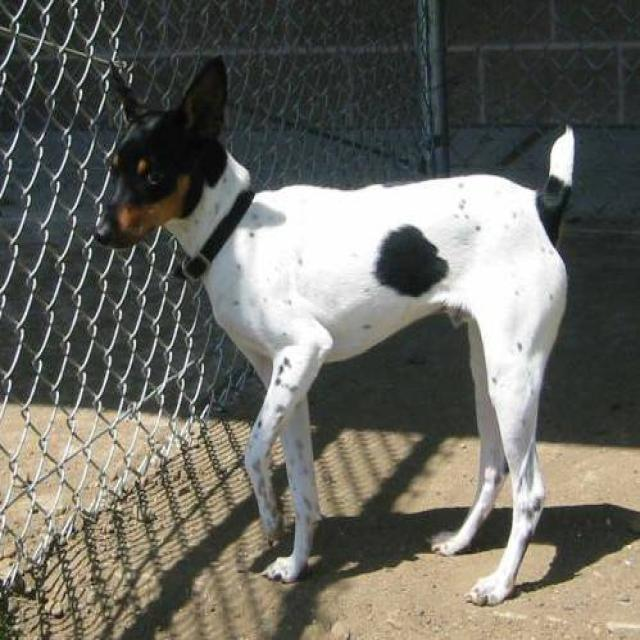Dog: (72, 34, 265, 262)
